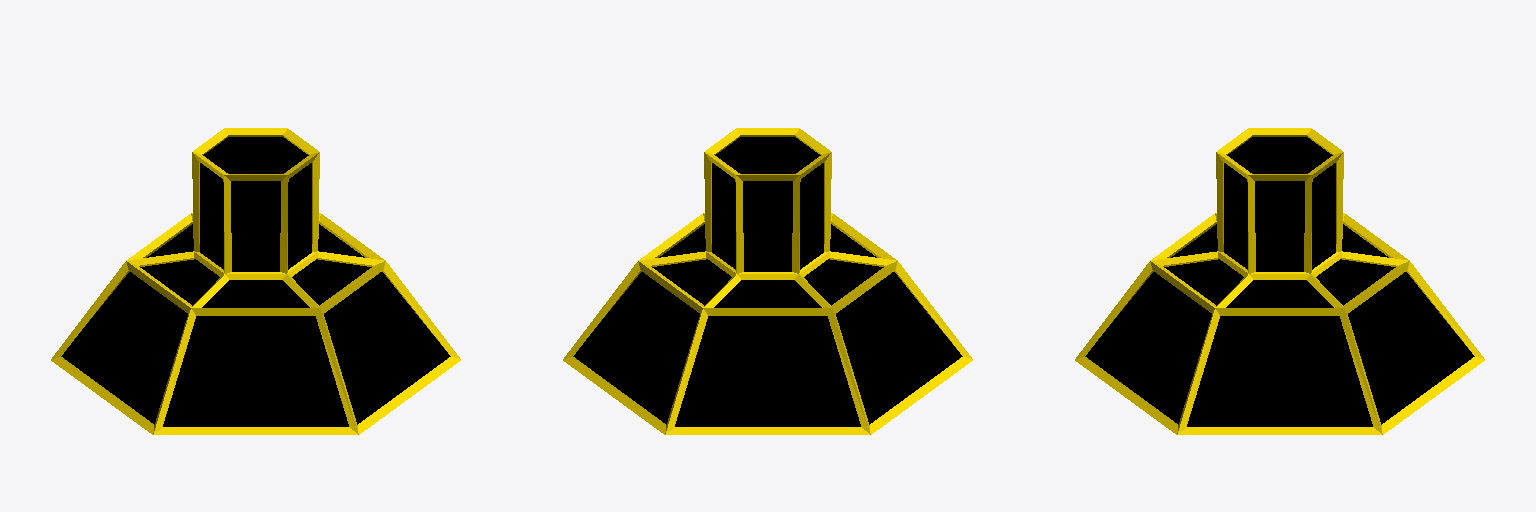
File: turret_body_wire.obj
3 views of the same model, side by side, from view 1: azimuth 30°, elevation 25°; view 2: azimuth 150°, elevation 25°; view 3: azimuth 270°, elevation 25° (orthographic).
Parts seen in each view (by area): view 1: Cylinder.002, Cylinder; view 2: Cylinder.002, Cylinder; view 3: Cylinder.002, Cylinder.
Boxes of the visible parts, <box> form: Cylinder.002: <box>61,137,450,426</box>; Cylinder: <box>51,128,460,434</box>; Cylinder.002: <box>573,137,962,426</box>; Cylinder: <box>563,128,972,434</box>; Cylinder.002: <box>1085,137,1474,426</box>; Cylinder: <box>1075,128,1484,434</box>.
Size of the model in its own units: 10.86 by 7.01 by 12.54.